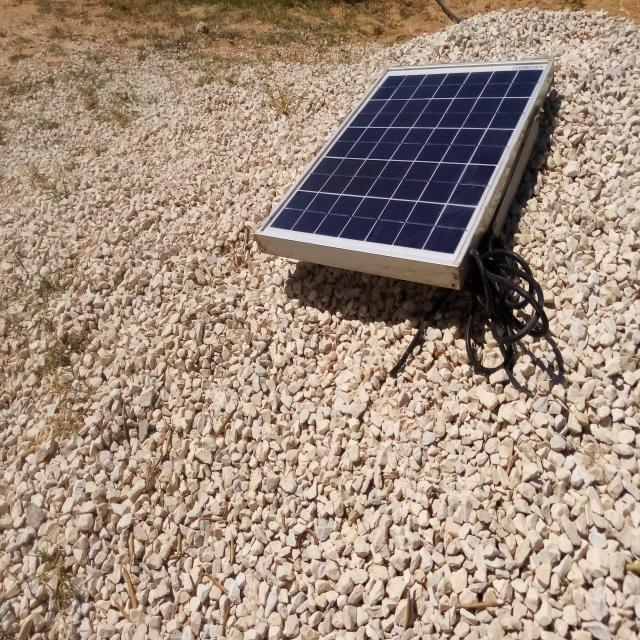Normal Solar Panel: (257, 60, 552, 265)
